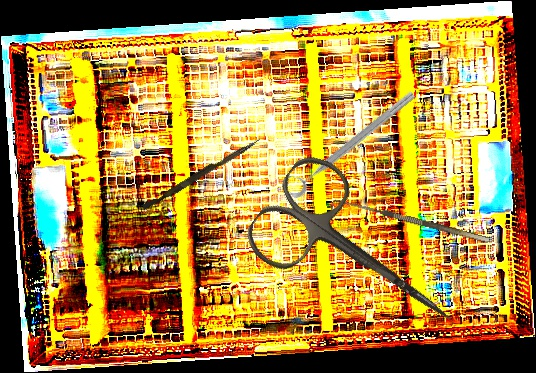Fixation Ring: (279, 80, 419, 201)
Hook Surgical: (330, 195, 490, 252)
Iris Scissors: (237, 145, 485, 370)
Pusher: (141, 133, 262, 214)
